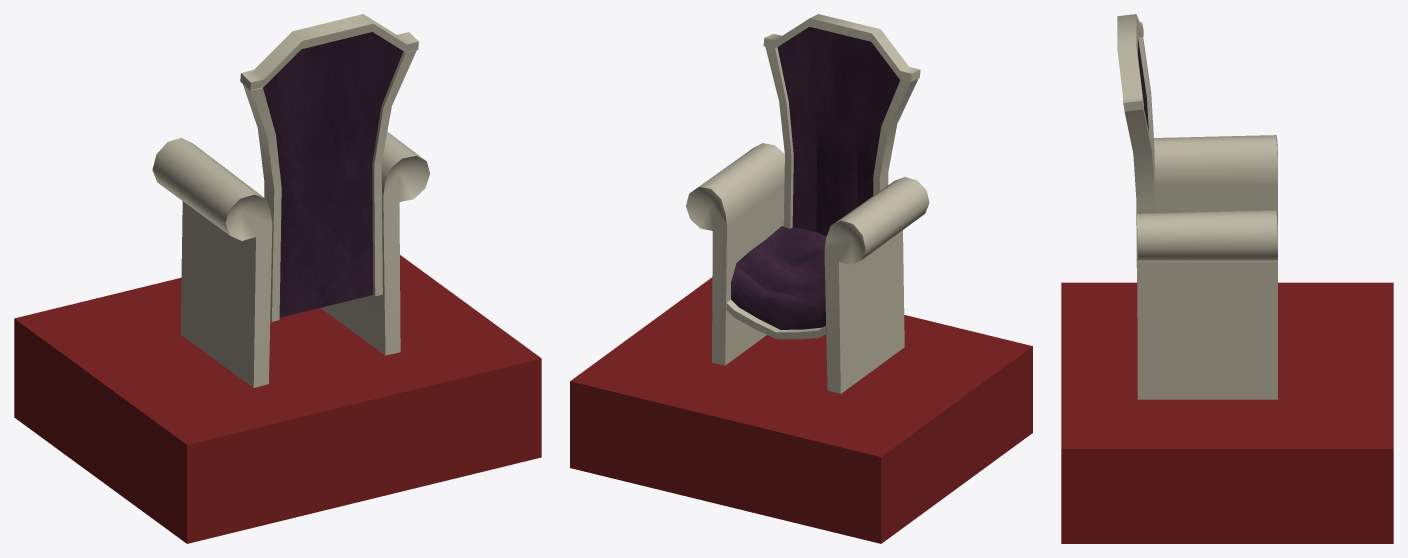
File: theater_puzzle_chair 1.fbx
The picture shows the model from 3 angles, left to right: view 1: azimuth 30°, elevation 25°; view 2: azimuth 150°, elevation 25°; view 3: azimuth 270°, elevation 25°; orthographic projection. The views are drawn at different scales.
Visible parts, largest first — view 1: chair; view 2: chair; view 3: chair.
Boxes of the visible parts, box(x1,y1,x2,y2) form: chair: box(14, 14, 541, 543); chair: box(570, 14, 1032, 543); chair: box(1061, 14, 1393, 543).
Bounding box in the file's own units: 241 × 291 × 203.
